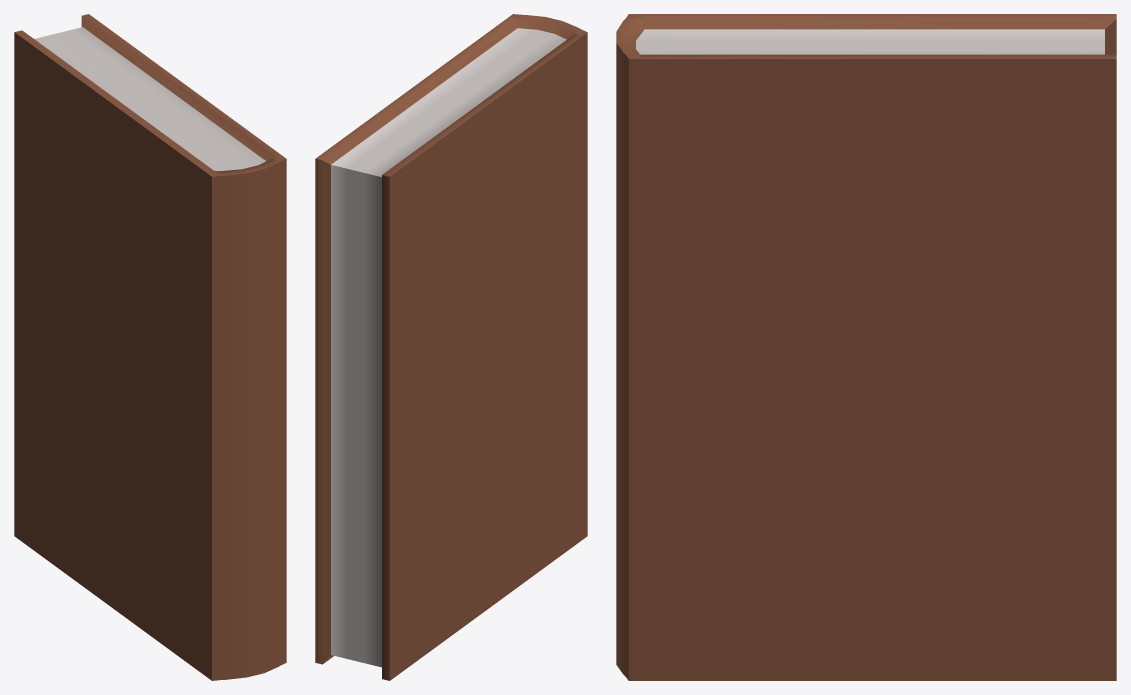
File: Mesh_Book_01.fbx
3 renders of one model, left to right at view 1: azimuth 30°, elevation 25°; view 2: azimuth 150°, elevation 25°; view 3: azimuth 270°, elevation 25°, orthographic. The views are drawn at different scales.
Parts seen in each view (by area): view 1: Book; view 2: Book; view 3: Book.
Boxes of the visible parts, box(x1,y1,x2,y2) form: Book: box(14, 14, 286, 680); Book: box(315, 14, 587, 680); Book: box(616, 14, 1116, 680).
Size of the model in its own units: 5.95 by 38.52 by 28.09.
